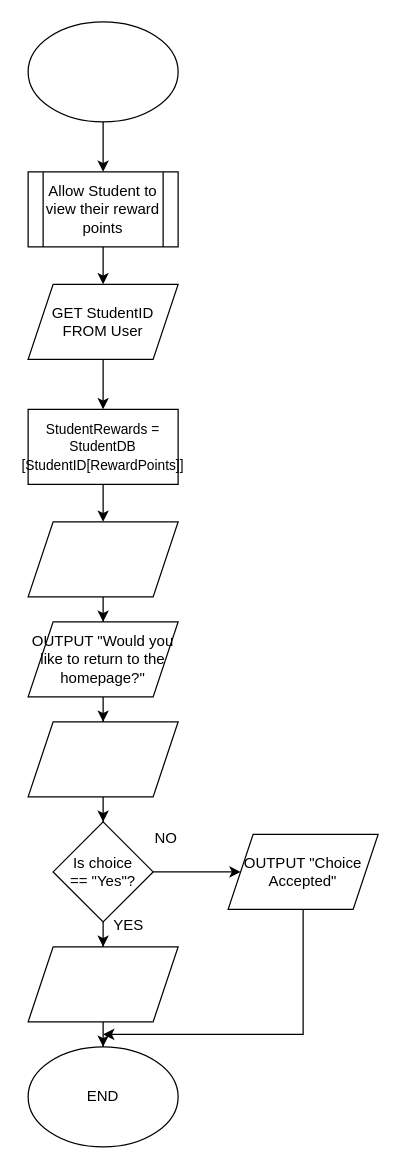
Some shapes in this 400 by 1169 pixel diagram are drawn without their labels. Here are the shapes that lost their labels. From the top down, the centre of each, then its label:
point 102,71: START
point 102,559: OUTPUT "You have {{StudentRewards}} Points - you can earn more from your tutors"
point 102,759: INPUT choice
point 102,984: OUTPUT Homepage
